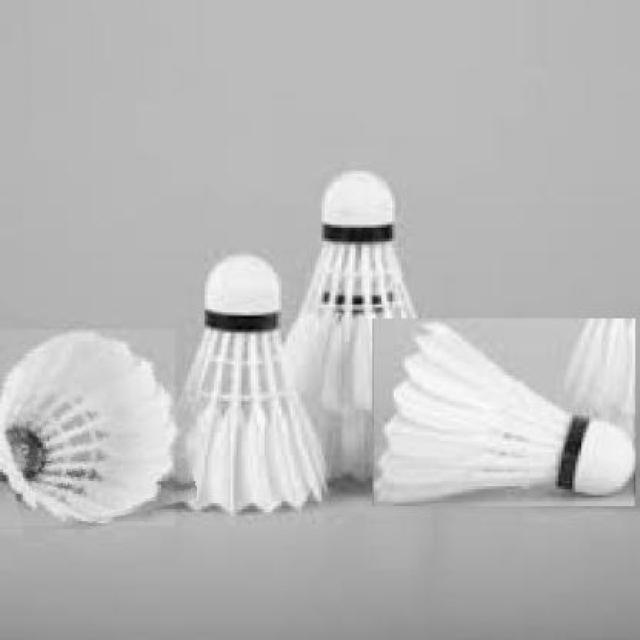Shuttlecock: (373, 317, 632, 505), (0, 328, 174, 525)
